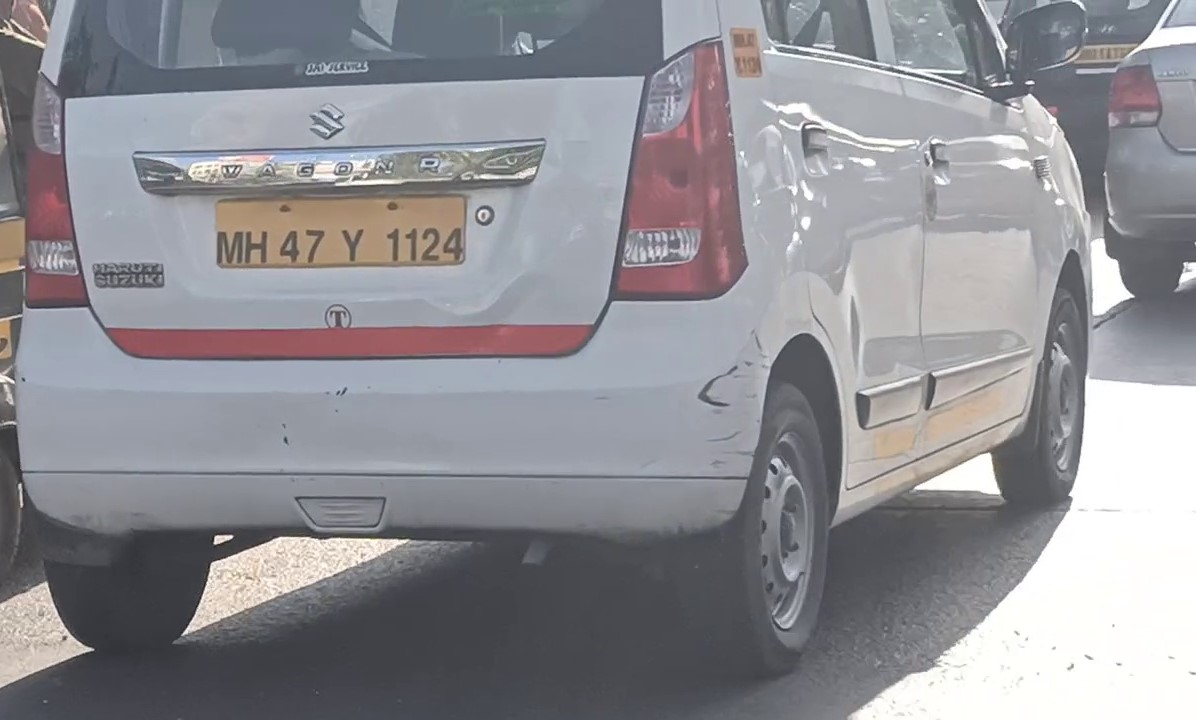MH47Y1124: (216, 195, 466, 269)
